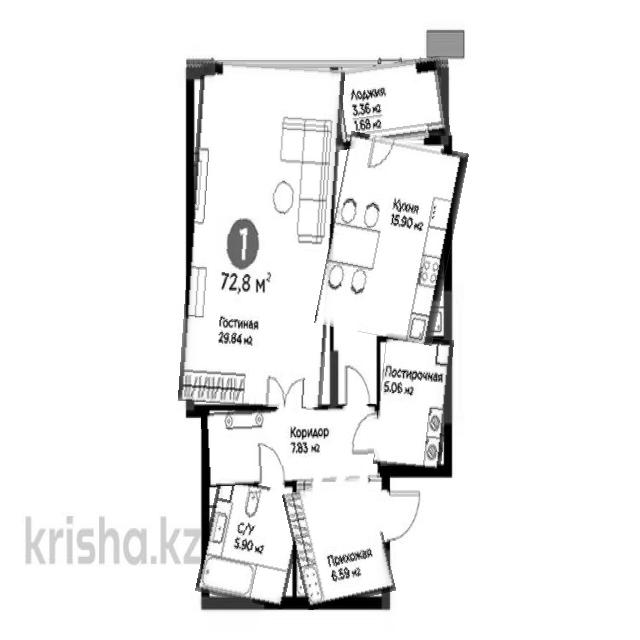balcony: (332, 60, 448, 146)
bathroom: (201, 480, 302, 605), (377, 335, 451, 469)
hallway: (202, 406, 380, 485), (288, 479, 390, 606)
kitchen: (324, 136, 461, 341)
living_room: (184, 63, 340, 408)
